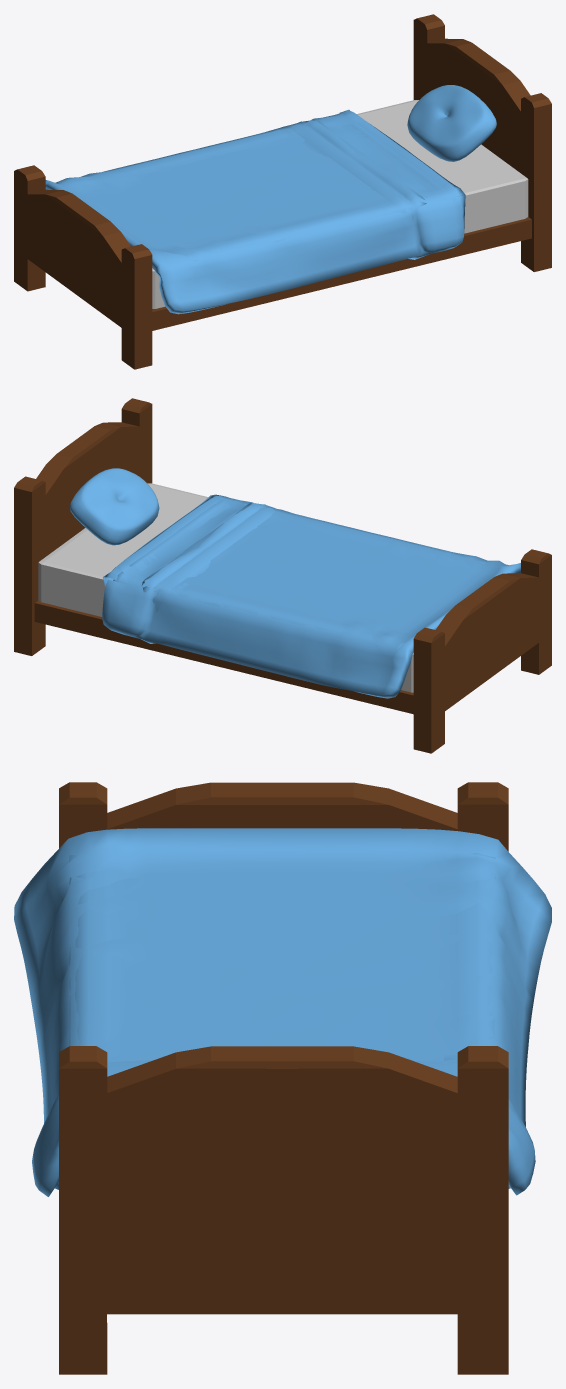
Rendered from Bed.fbx.
The picture shows the model from 3 angles, top to bottom: view 1: azimuth 30°, elevation 25°; view 2: azimuth 150°, elevation 25°; view 3: azimuth 270°, elevation 25°; orthographic projection. The views are drawn at different scales.
Visible parts, largest first — view 1: Plane, Cube.003, Cube.002, Cube, Cube.004, Cube.001; view 2: Plane, Cube.003, Cube.002, Cube, Cube.004, Cube.001; view 3: Cube.002, Plane, Cube.003.
Boxes of the visible parts, x1,y1,x2,y2 form: Plane: [45, 109, 465, 314]; Cube.003: [14, 165, 152, 369]; Cube.002: [413, 14, 551, 271]; Cube: [152, 100, 528, 308]; Cube.004: [407, 85, 496, 161]; Cube.001: [152, 217, 531, 330]; Plane: [102, 494, 520, 698]; Cube.003: [413, 549, 551, 753]; Cube.002: [14, 398, 152, 655]; Cube: [38, 483, 413, 692]; Cube.004: [70, 468, 159, 545]; Cube.001: [34, 600, 413, 714]; Cube.002: [59, 1046, 508, 1374]; Plane: [14, 828, 551, 1196]; Cube.003: [59, 782, 508, 851].
Bounding box in the file's own units: 13.06 × 5.01 × 7.81.
